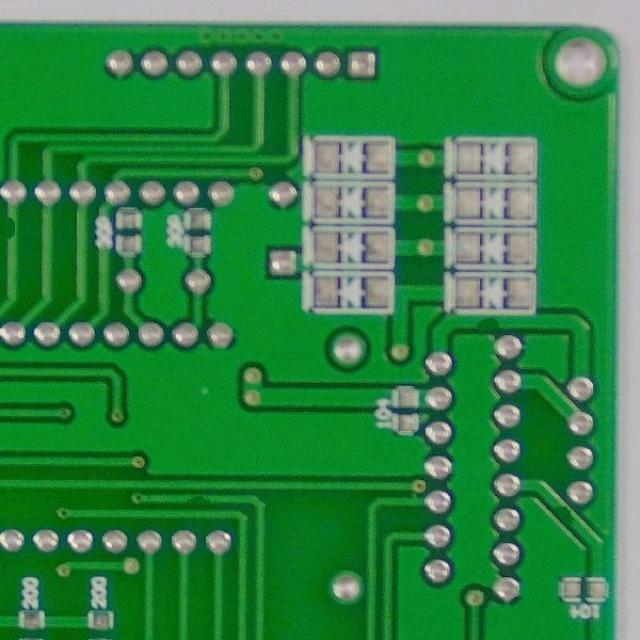mouse_bite: (548, 498, 579, 528), (182, 491, 215, 511), (472, 315, 506, 334), (1, 214, 21, 244)
